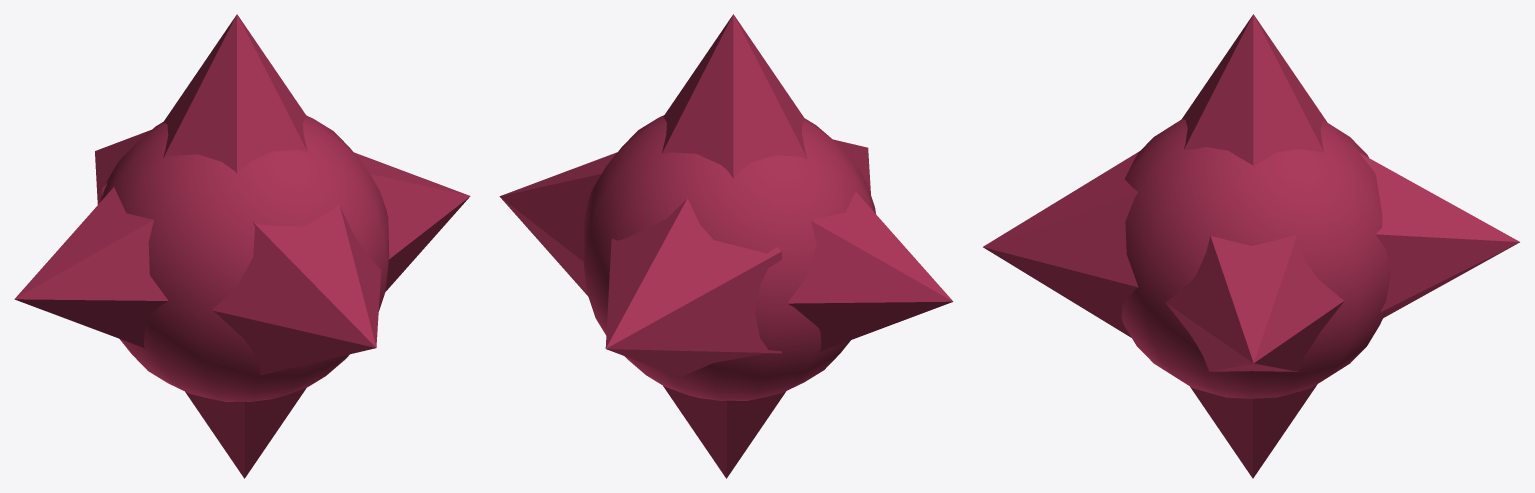
The model's file is needle.fbx.
3 renders of one model, left to right at view 1: azimuth 30°, elevation 25°; view 2: azimuth 150°, elevation 25°; view 3: azimuth 270°, elevation 25°, orthographic.
Parts seen in each view (by area): view 1: pCone7; view 2: pCone7; view 3: pCone7.
Part boxes in pixels (bbox=[...]): pCone7: bbox=[14, 14, 470, 478]; pCone7: bbox=[499, 14, 953, 478]; pCone7: bbox=[983, 14, 1519, 478].
Bounding box in the file's own units: 0.7711 × 0.7553 × 0.798.
